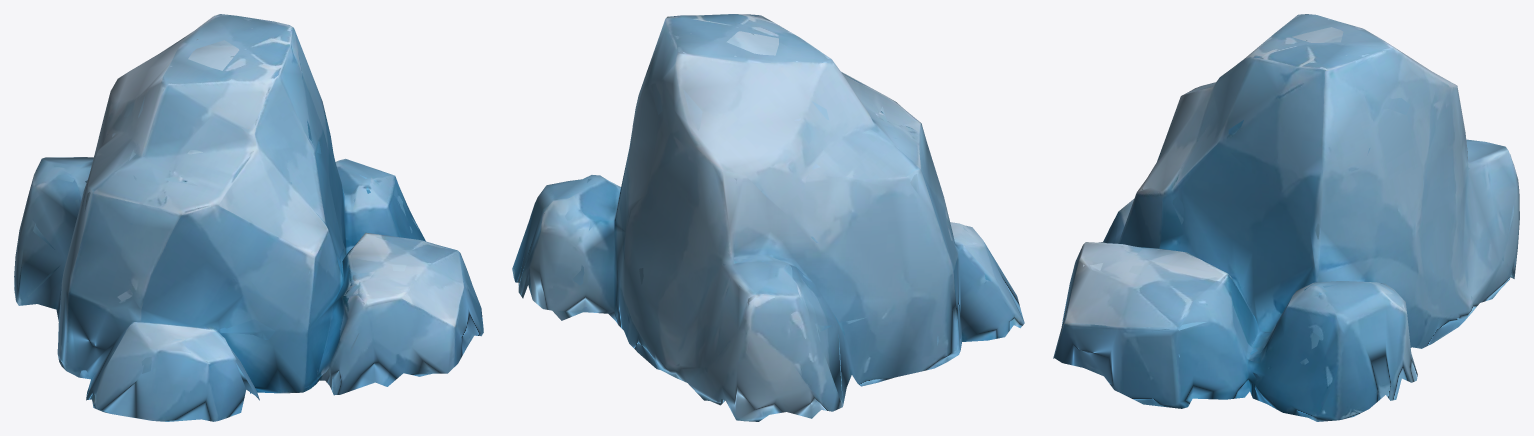
The model's file is rock_ice.glb.
The picture shows the model from 3 angles, left to right: view 1: azimuth 30°, elevation 25°; view 2: azimuth 150°, elevation 25°; view 3: azimuth 270°, elevation 25°; orthographic projection. The views are drawn at different scales.
Visible parts, largest first — view 1: BakeLow; view 2: BakeLow; view 3: BakeLow.
Part boxes in pixels (left/top/right/bottom): BakeLow: left=14, top=14, right=483, bottom=421; BakeLow: left=512, top=14, right=1024, bottom=421; BakeLow: left=1053, top=14, right=1519, bottom=421.
Size of the model in its own units: 0.9203 by 0.5997 by 0.8744.
1 material, 1 textured.
